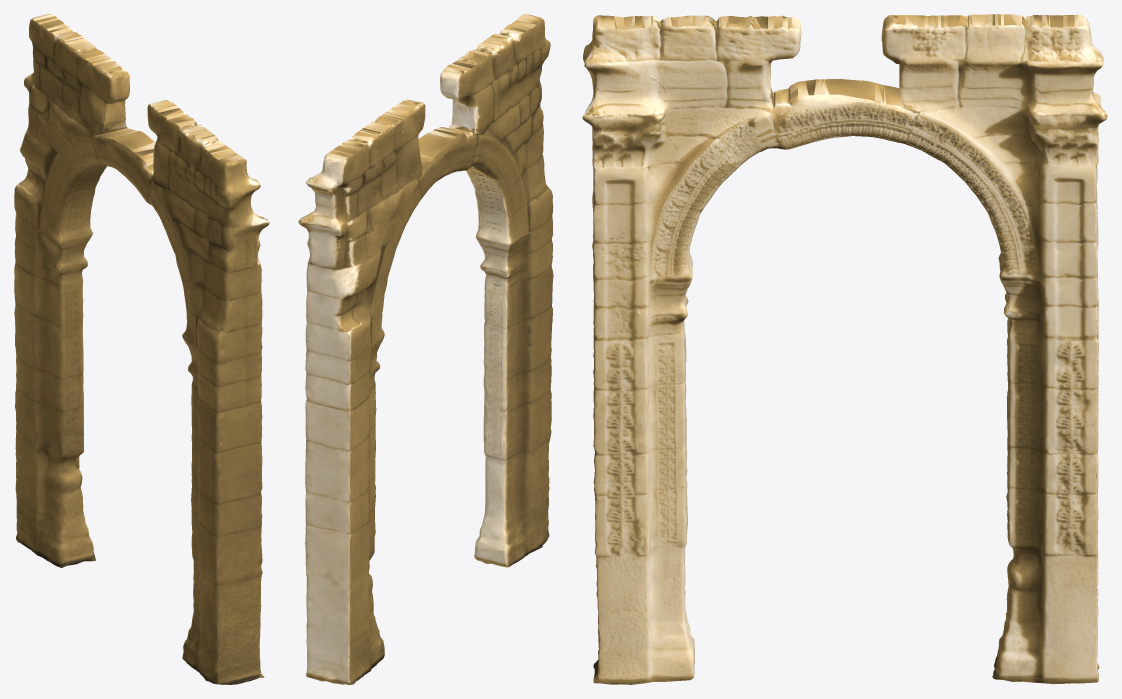
Rendered from arch.glb.
The picture shows the model from 3 angles, left to right: view 1: azimuth 30°, elevation 25°; view 2: azimuth 150°, elevation 25°; view 3: azimuth 270°, elevation 25°; orthographic projection. The views are drawn at different scales.
Parts seen in each view (by area): view 1: Arch; view 2: Arch; view 3: Arch.
Boxes of the visible parts, x1,y1,x2,y2 form: Arch: (14,14,269,684); Arch: (298,14,553,684); Arch: (582,14,1107,684).
Bounding box in the file's own units: 0.7049 × 7 × 5.1.
1 material, 1 textured.
